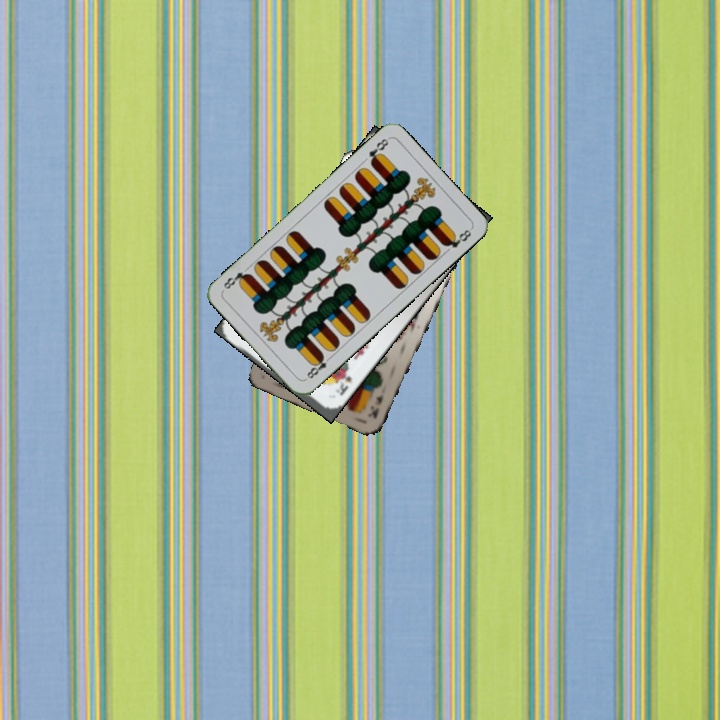E8: (301, 351, 335, 382), (365, 134, 391, 167)
EK: (366, 391, 386, 421)
SK: (332, 365, 355, 398)
